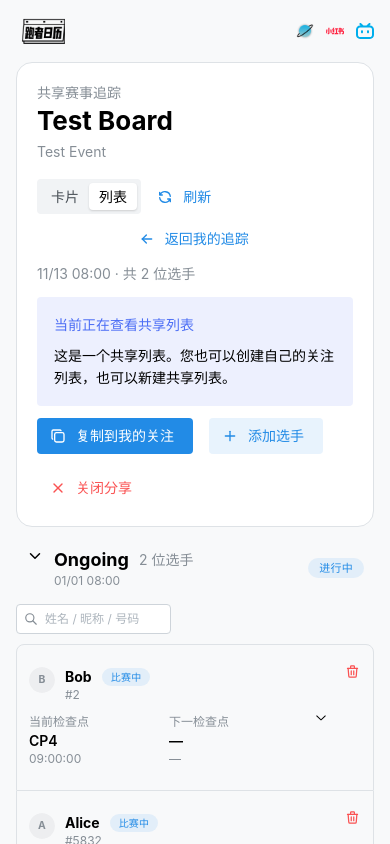
Test case: shared tracking page › shares defaults, group and runner ordering, local filtering, refresh persistence, and add UI
Expected: the radio button labelled "列表" is checked, [99, 188, 127, 205]
Type "58" into the field named "筛选Ongoing选手" at (94, 619), box [16, 604, 171, 634]
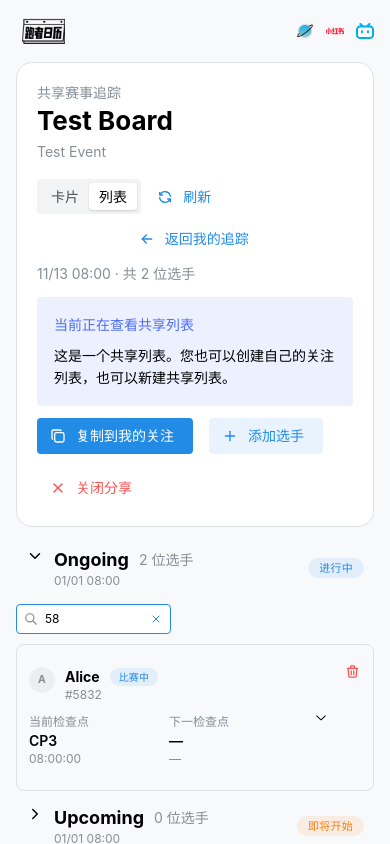
Result: the button "Bob" is gone
Click the radio button labelled "卡片" at (65, 196), box [51, 188, 79, 205]
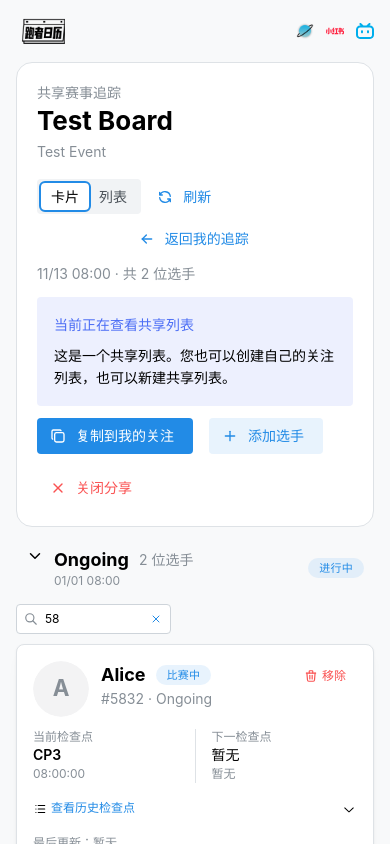
Result: the text "查看历史检查点" is shown at [51, 800, 135, 817]
Click the button "Ongoing 2 位选手 01/01 08:00 进行中" at (195, 568), box [16, 543, 374, 594]
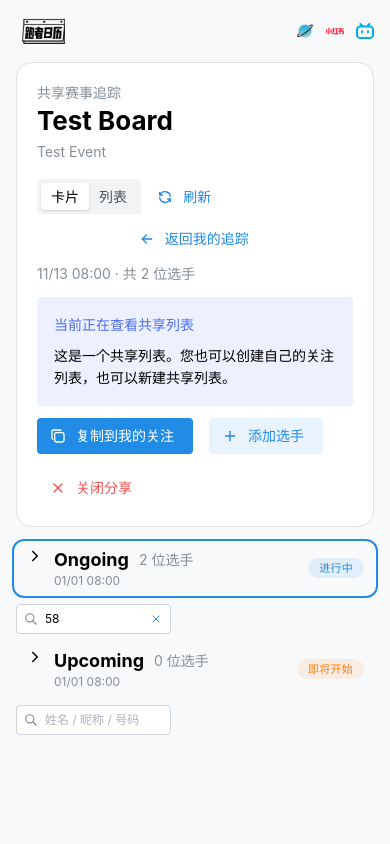
Click the button "刷新" at (186, 196), box [151, 184, 220, 210]
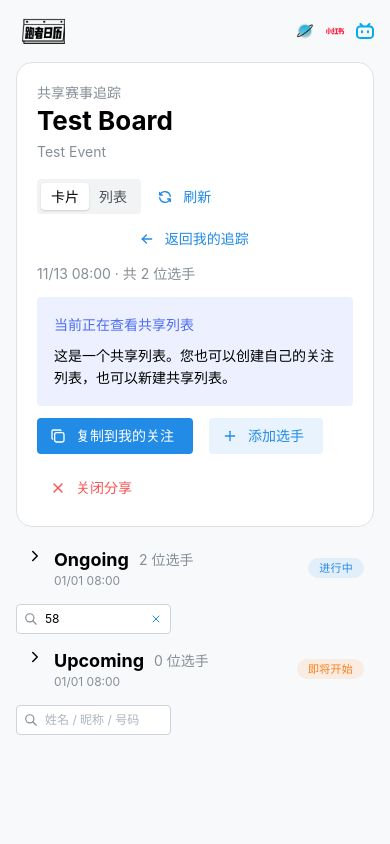
Result: the button "Ongoing 2 位选手 01/01 08:00 进行中" is collapsed at [16, 543, 374, 594]
Click the button "添加选手" at (266, 436), box [209, 418, 323, 454]
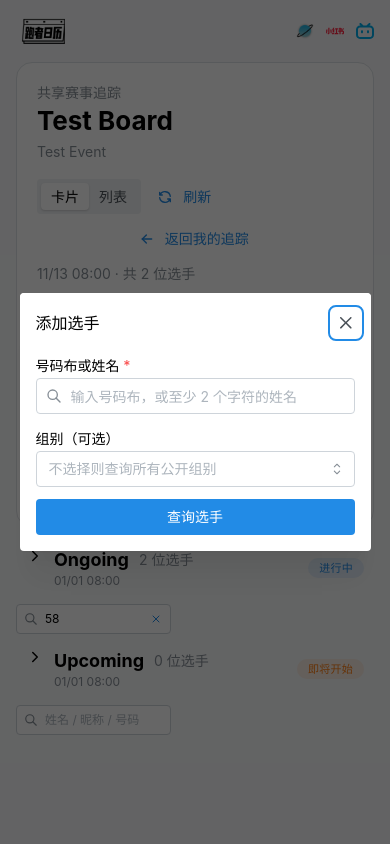
Result: the dialog "添加选手" is shown at [20, 293, 370, 551]
Result: the field labelled "号码布或姓名 *" is empty at [36, 378, 354, 414]
